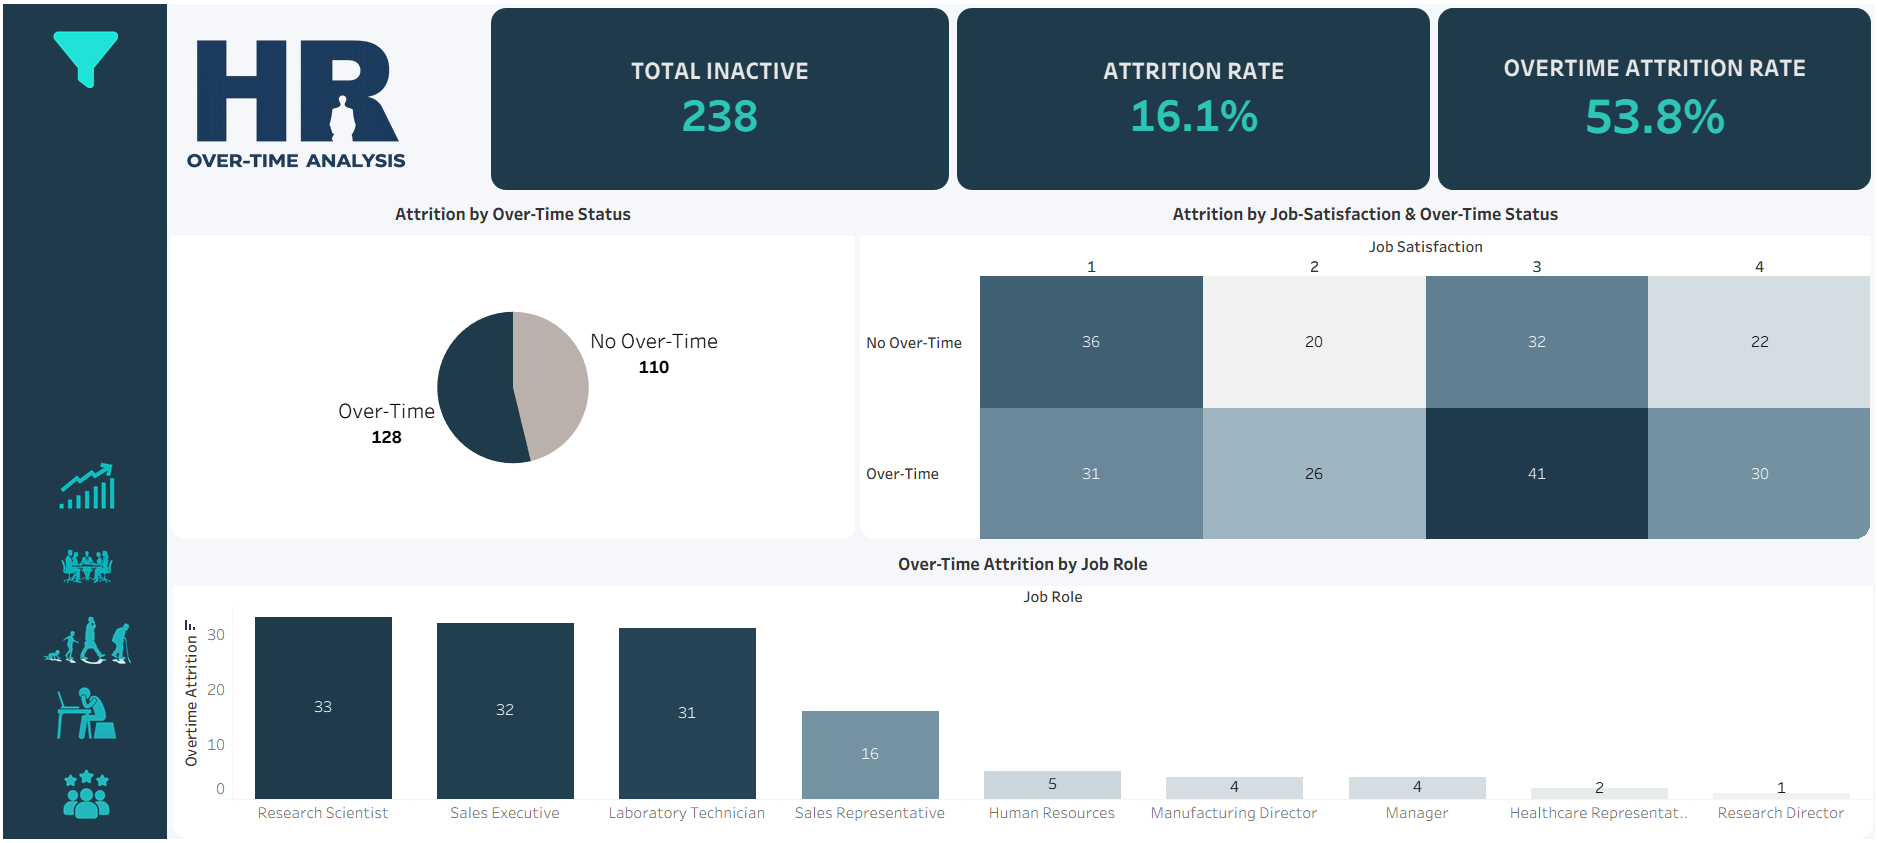

This screenshot's page, from the dashboard's own definition file:
{"tool":"tableau","page":{"name":"Over-Time Analysis","canvas":[1000,1000],"units":"permille","ordinal":4},"visuals":[{"type":"image","param":"Image/Over Time Analysis Logo.png","box":[91.7,9.4,169,223.3]},{"type":"worksheet","title":"Inactive","mark":"Automatic","box":[260.7,9.4,246.5,223.3]},{"type":"worksheet","title":"KPI-Attrition Rate","mark":"Automatic","box":[507.2,9.4,254.4,223.3]},{"type":"worksheet","title":"Overtime Attrition Rate","mark":"Automatic","box":[761.6,9.4,233.6,223.3]},{"type":"dashboard-object","box":[24.7,41.1,45.9,67]},{"type":"filter","title":"Heat","param":"[federated.1of4pu71v0n0iw0zwbxfw1q17xni].[none:Department:nk]","box":[4.8,116.3,85.1,150.4]},{"type":"worksheet","title":"Attrition by Overtime","mark":"Pie","box":[91.7,232.7,366.3,410.1]},{"type":"worksheet","title":"Heat","mark":"Square","rows":["Calculation_0387854848352257"],"cols":["JobSatisfaction"],"box":[458.1,237.4,535.3,400.7]},{"type":"dashboard-object","box":[12.7,531.1,71.2,90.5]},{"type":"dashboard-object","box":[12.7,621.6,71.2,90.5]},{"type":"worksheet","title":"Over Time attrition","mark":"Bar","rows":["Calculation_0379333593067522"],"cols":["JobRole"],"box":[94.2,648.6,900.4,341.9]},{"type":"dashboard-object","box":[12.7,712.1,71.2,89.3]},{"type":"dashboard-object","box":[12.7,801.4,71.2,89.3]},{"type":"dashboard-object","box":[12.7,890.7,71.2,89.3]}]}

Visuals, with their boxes on the dashboard's canvas, which has no fixed pixel size, in thousandths of its width and height (x1, y1, x2, y2). These are canvas units, not pixel positions in the 1877x843 screenshot, which may show the page scaled, cropped or inside an application window:
image: 92:9:261:233
"Inactive" worksheet: 261:9:507:233
"KPI-Attrition Rate" worksheet: 507:9:762:233
"Overtime Attrition Rate" worksheet: 762:9:995:233
dashboard-object: 25:41:71:108
"Heat" filter: 5:116:90:267
"Attrition by Overtime" worksheet (Pie marks): 92:233:458:643
"Heat" worksheet (Square marks): 458:237:993:638
dashboard-object: 13:531:84:622
dashboard-object: 13:622:84:712
"Over Time attrition" worksheet (Bar marks): 94:649:995:990
dashboard-object: 13:712:84:801
dashboard-object: 13:801:84:891
dashboard-object: 13:891:84:980
